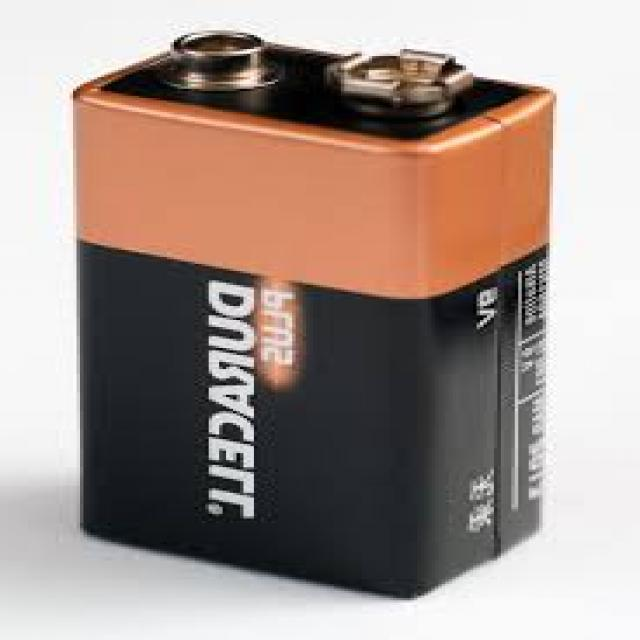battery: (82, 24, 554, 606)
